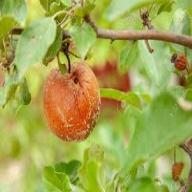apple: (44, 64, 100, 140)
